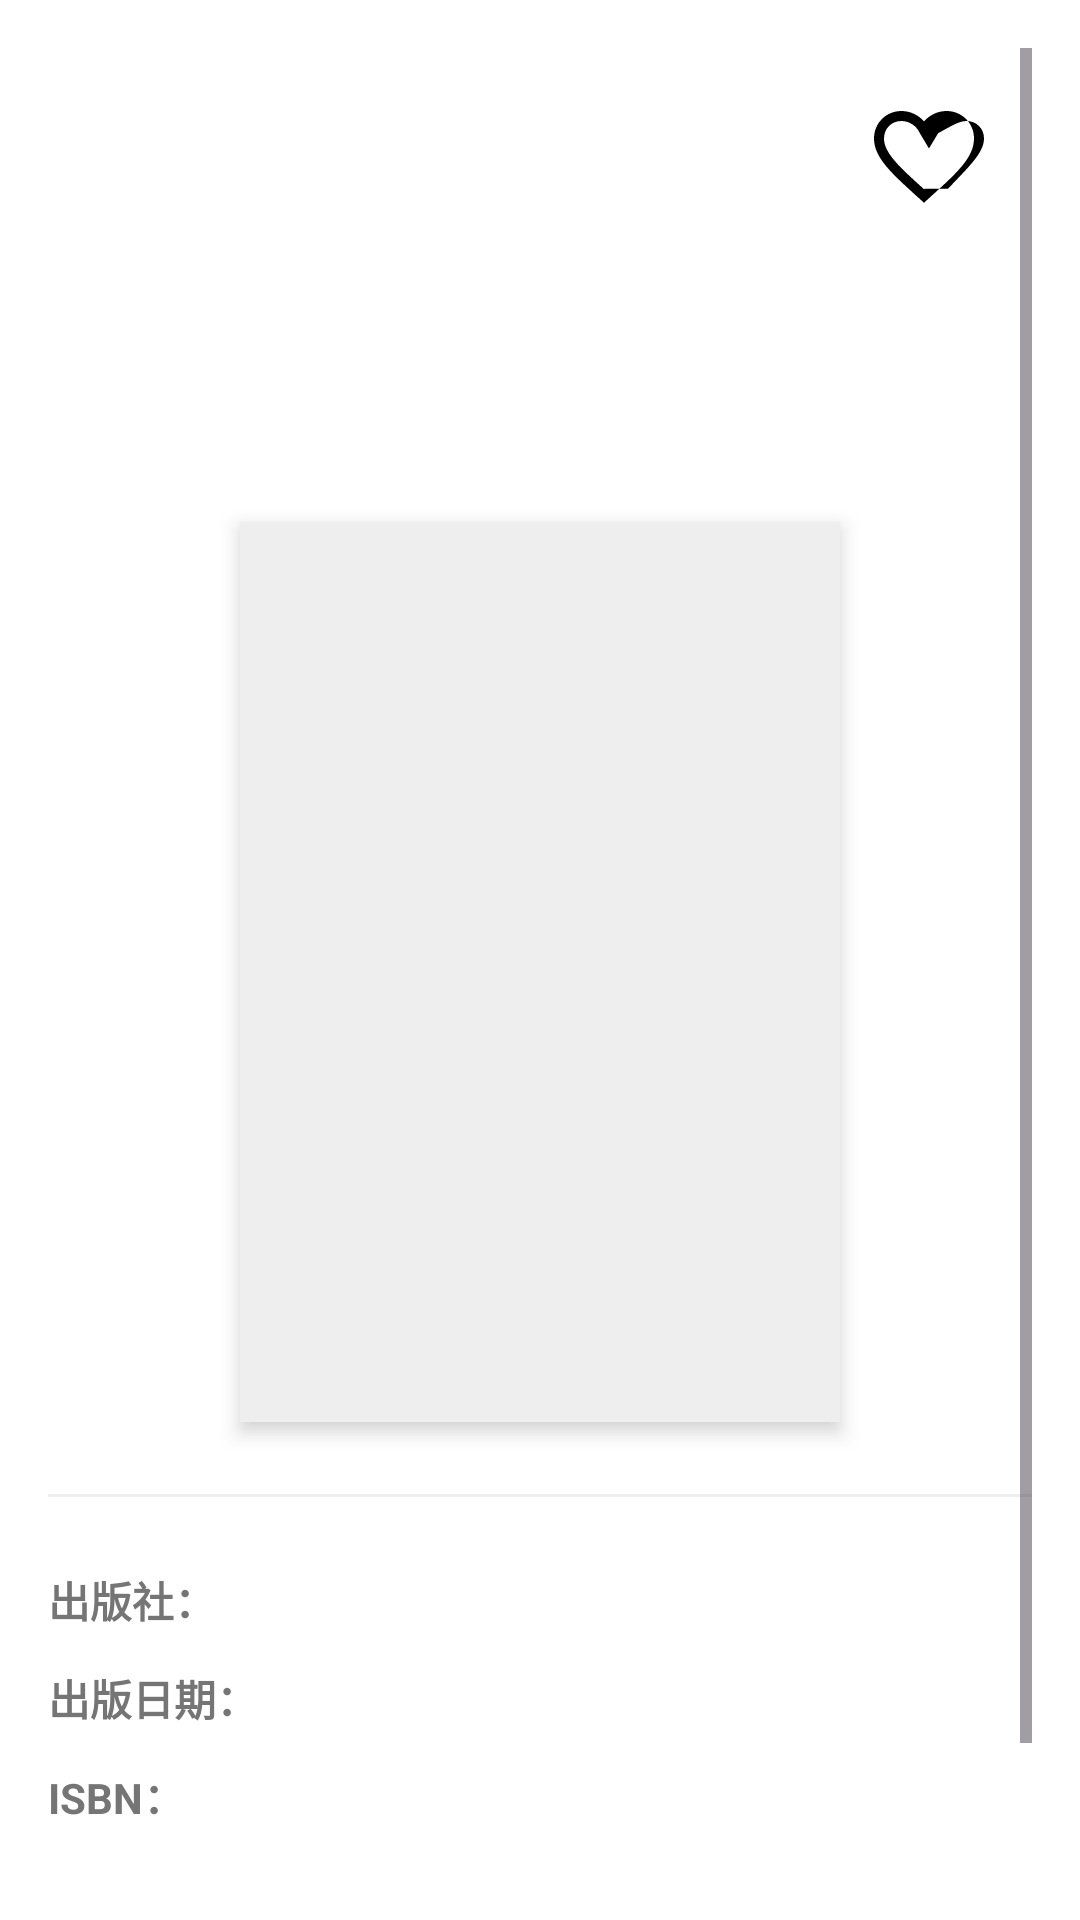

Named icons in this screenshot (1080px x 1920px) and their bounding boxes, (x1, y1, x2, y2):
favorite border: (874, 111, 984, 203)
